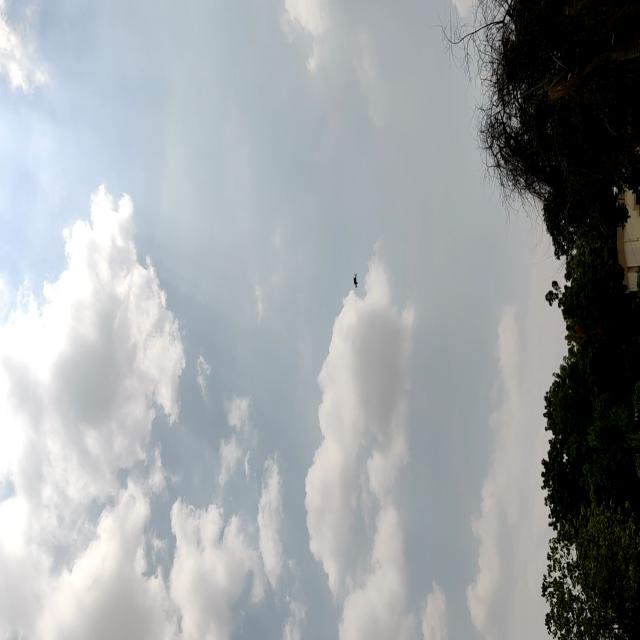drone: (348, 271, 362, 291)
